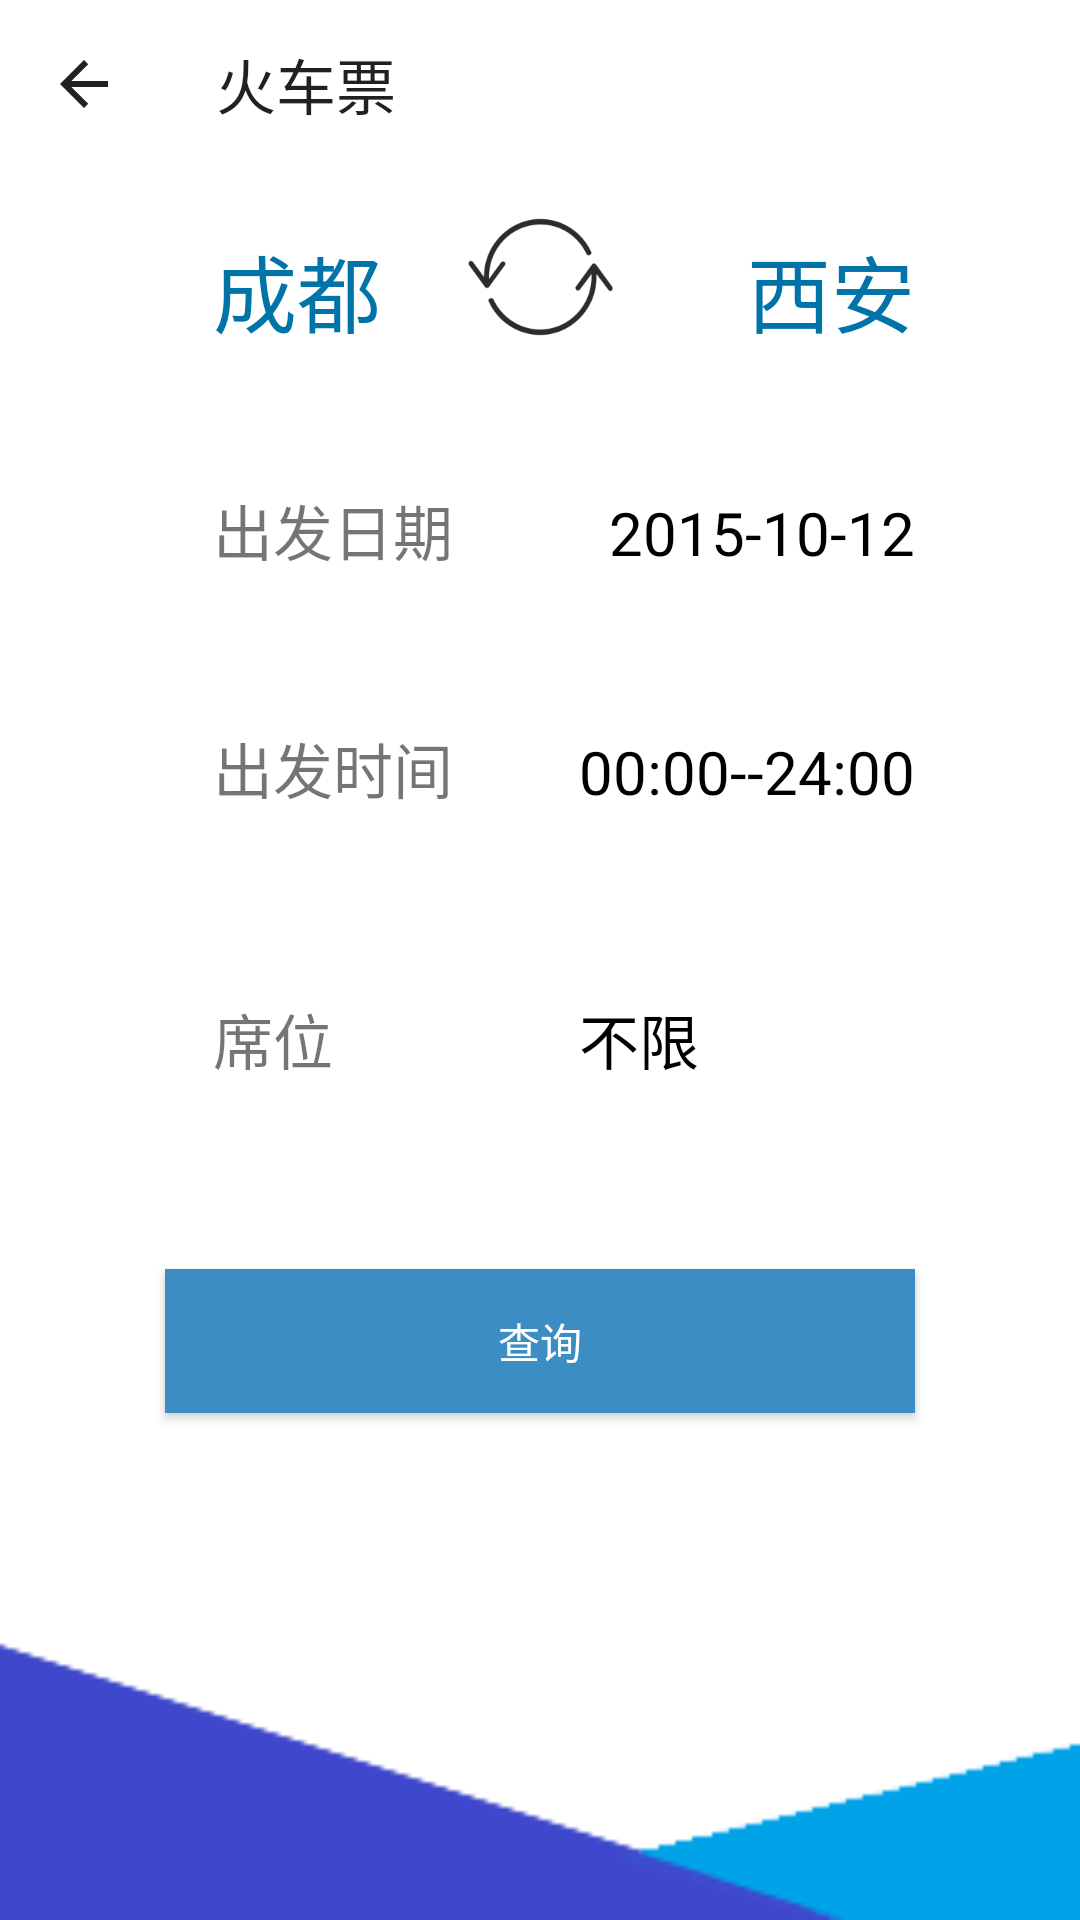

Icons on this 1080px x 1920px Android screen, each with its box as (x1=x1, y1=y1, x2=x2, y2=y2):
conversion: (x1=468, y1=218, x2=613, y2=336)
